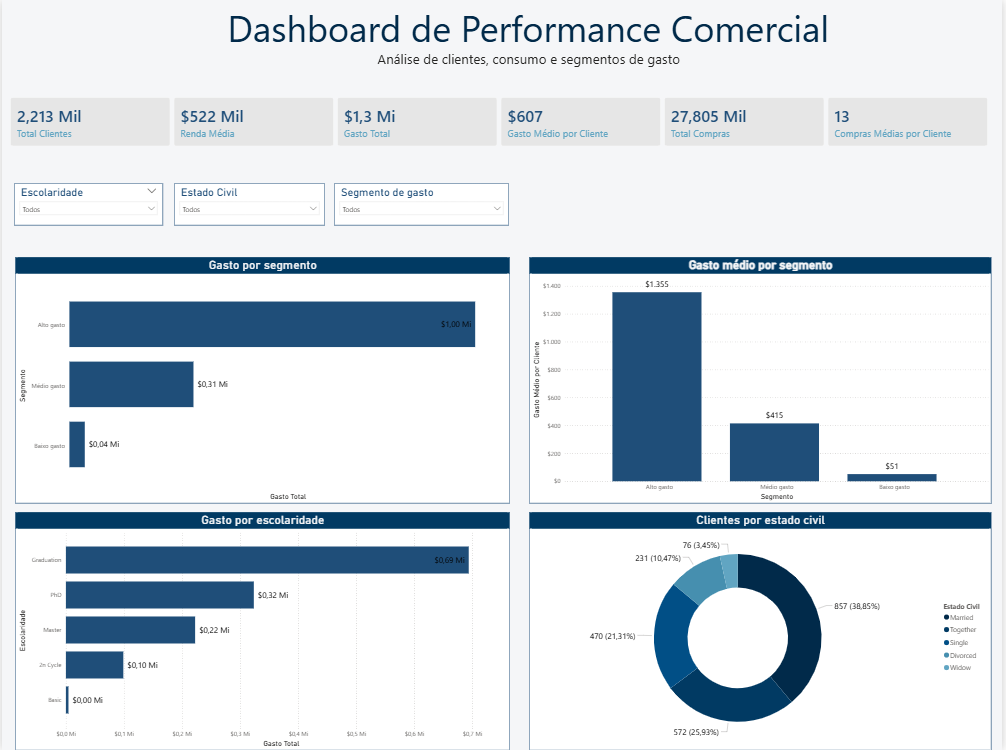

What the dashboard file says about the page in this screenshot:
{"tool":"powerbi","page":{"name":"Visão Geral","canvas":[2000,1500],"ordinal":0},"visuals":[{"type":"cardVisual","fields":{"Data":["_Measures.Total Clientes","_Measures.Renda Média","_Measures.Gasto Total","_Measures.Gasto Médio por Cliente","_Measures.Total Compras","_Measures.Compras Médias por Cliente"]},"box":[0,178.3,1990,131.7],"z":0},{"type":"barChart","title":"Gasto por segmento","fields":{"Category":["customers_clean.Spending_Segment"],"Y":["_Measures.Gasto Total"]},"box":[26.7,513.3,990,493.3],"z":1000},{"type":"columnChart","title":"Gasto médio por segmento","fields":{"Category":["customers_clean.Spending_Segment"],"Y":["_Measures.Gasto Médio por Cliente"]},"box":[1053.3,513.3,925,493.3],"z":2000},{"type":"barChart","title":"Gasto por escolaridade","fields":{"Category":["customers_clean.Education"],"Y":["_Measures.Gasto Total"]},"box":[26.7,1023.3,990,476.7],"z":3000},{"type":"donutChart","title":"Clientes por estado civil","fields":{"Category":["customers_clean.Marital_Status"],"Y":["_Measures.Total Clientes"]},"box":[1053.3,1023.3,925,476.7],"z":4000},{"type":"slicer","fields":{"Values":["customers_clean.Education"]},"box":[25,366.7,298.3,85],"z":5000},{"type":"slicer","fields":{"Values":["customers_clean.Marital_Status"]},"box":[343.3,366.7,301.7,85],"z":6000},{"type":"slicer","fields":{"Values":["customers_clean.Spending_Segment"]},"box":[665,366.7,350,85],"z":7000},{"type":"textbox","box":[426.7,0,1253.3,108.3],"z":8000},{"type":"textbox","box":[551.7,93.3,1003.3,66.7],"z":9000}]}

Visuals, with their boxes in screenshot pixels (x1, y1, x2, y2), scaled from the page's 2000x1500 canvas onto the 1006x750 screenshot:
cardVisual - _Measures.Total Clientes x _Measures.Renda Média: [left=0, top=89, right=1001, bottom=155]
"Gasto por segmento" barChart: [left=13, top=257, right=511, bottom=503]
"Gasto médio por segmento" columnChart: [left=530, top=257, right=995, bottom=503]
"Gasto por escolaridade" barChart: [left=13, top=512, right=511, bottom=749]
"Clientes por estado civil" donutChart: [left=530, top=512, right=995, bottom=749]
slicer - customers_clean.Education: [left=13, top=183, right=163, bottom=226]
slicer - customers_clean.Marital_Status: [left=173, top=183, right=324, bottom=226]
slicer - customers_clean.Spending_Segment: [left=334, top=183, right=511, bottom=226]
textbox: [left=215, top=0, right=845, bottom=54]
textbox: [left=278, top=47, right=782, bottom=80]
